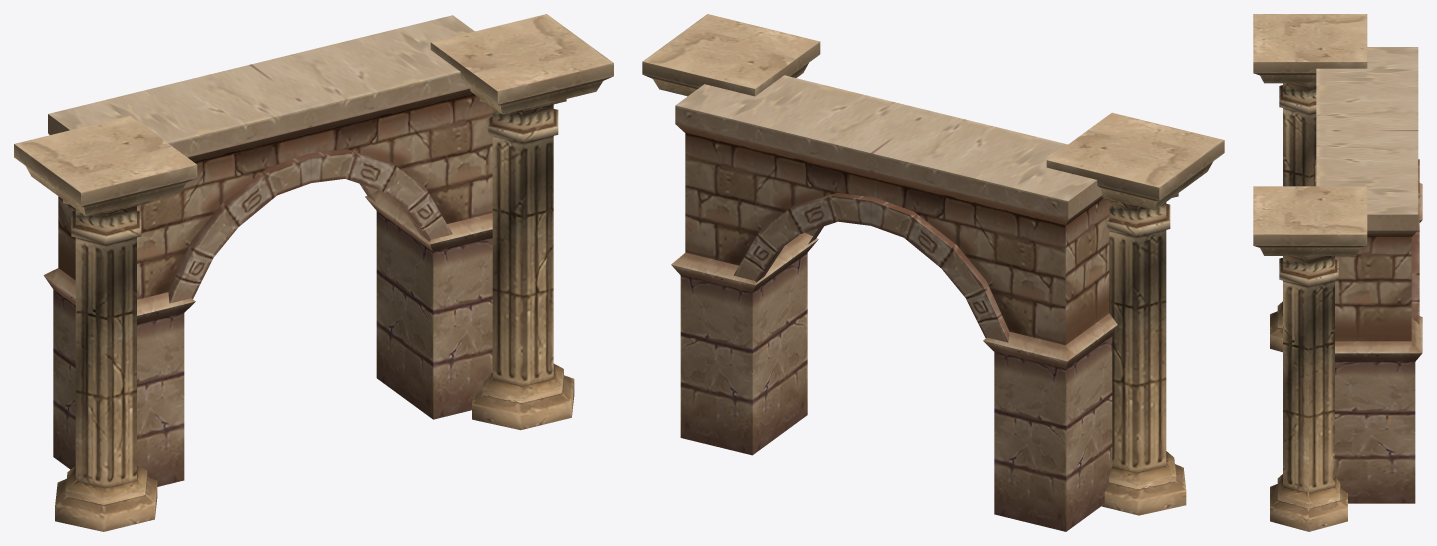
Rendered from Arena1_colosseum01.FBX.
The picture shows the model from 3 angles, left to right: view 1: azimuth 30°, elevation 25°; view 2: azimuth 150°, elevation 25°; view 3: azimuth 270°, elevation 25°; orthographic projection. The views are drawn at different scales.
Visible parts, largest first — view 1: m; view 2: m; view 3: m.
Boxes of the visible parts, bbox=[...] form: m: bbox=[14, 14, 613, 531]; m: bbox=[642, 14, 1224, 531]; m: bbox=[1253, 14, 1422, 531].
Size of the model in its own units: 775 by 492 by 251.
